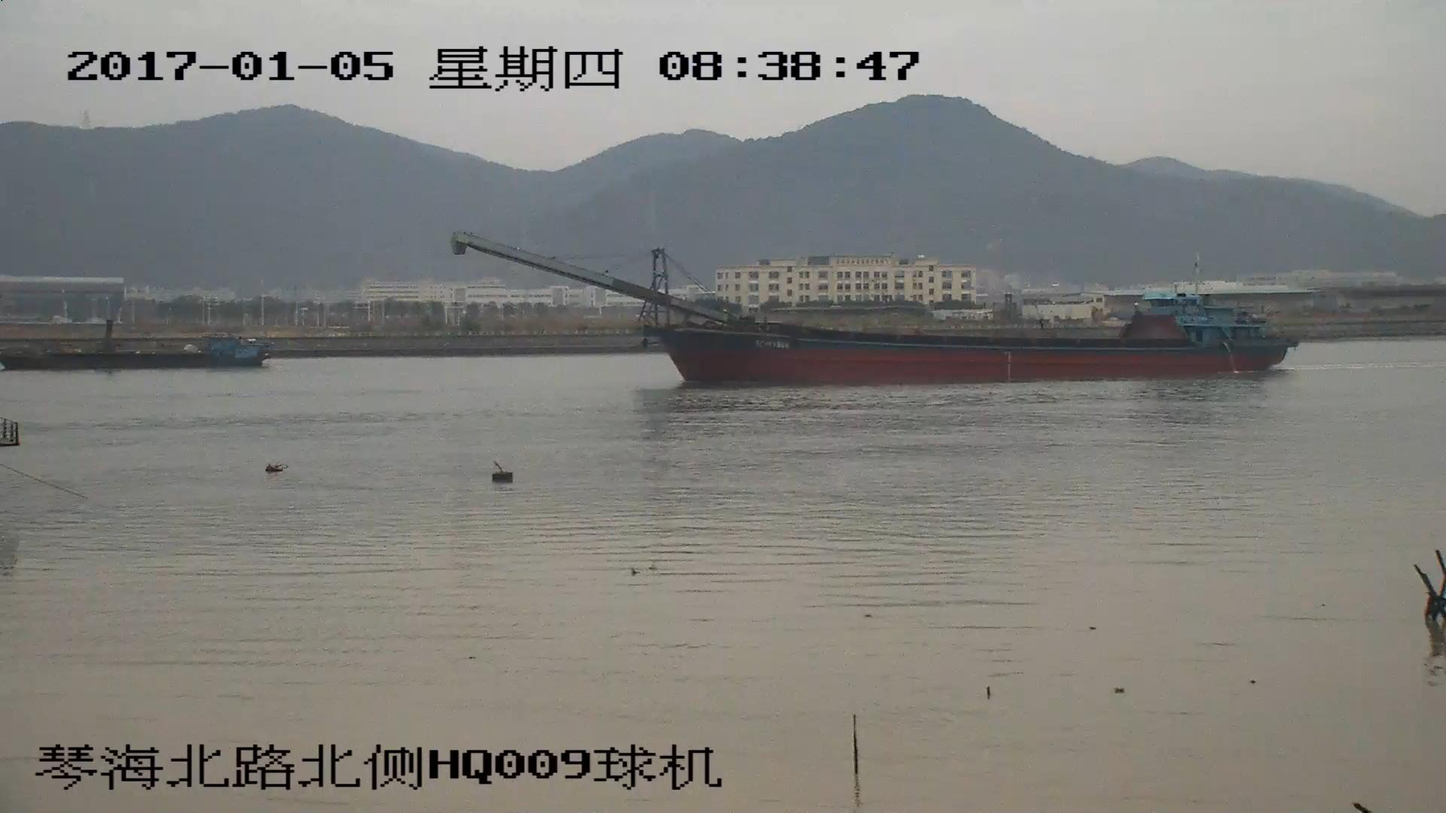bulk cargo carrier: (452, 236, 1301, 388)
